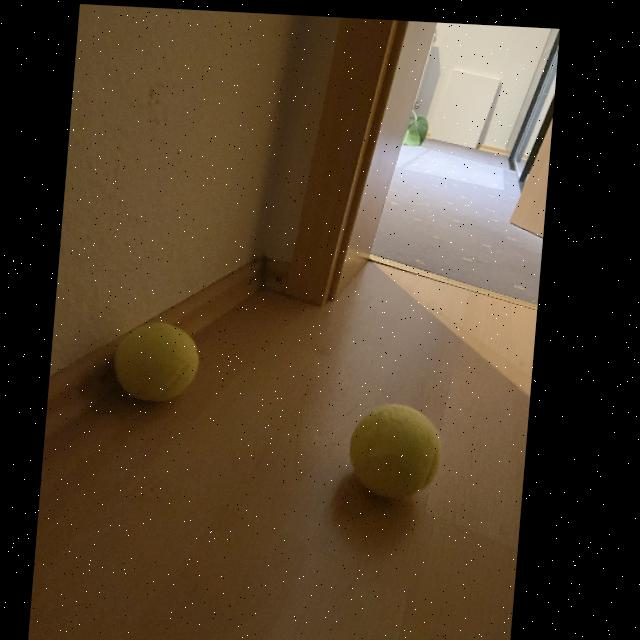Tennisball: (349, 404, 441, 499), (114, 323, 199, 401)
